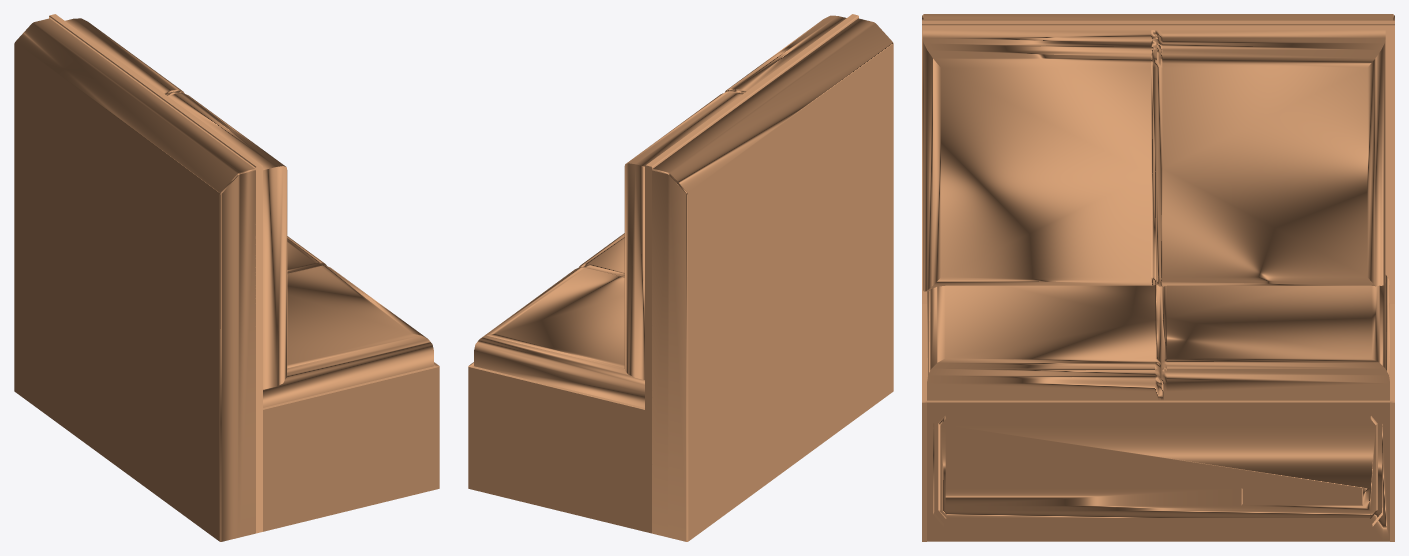
Rendered from barBooth_clean_stanton_uee_01.glb.
3 views of the same model, side by side, from view 1: azimuth 30°, elevation 25°; view 2: azimuth 150°, elevation 25°; view 3: azimuth 270°, elevation 25° (orthographic). The views are drawn at different scales.
Bounding box in the file's own units: 0.7721 × 1.22 × 1.25.
